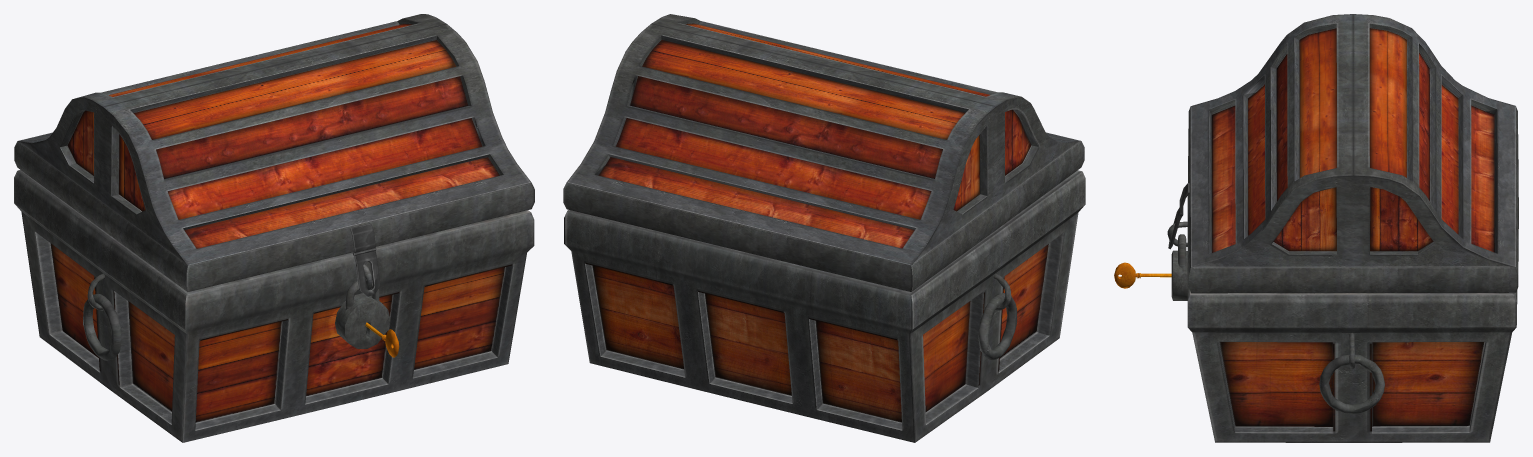
The model's file is Chest gold closed.FBX.
3 renders of one model, left to right at view 1: azimuth 30°, elevation 25°; view 2: azimuth 150°, elevation 25°; view 3: azimuth 270°, elevation 25°, orthographic. The views are drawn at different scales.
Parts seen in each view (by area): view 1: chest gold closed; view 2: chest gold closed; view 3: chest gold closed.
Part boxes in pixels (<box>): chest gold closed: <box>14,14,534,442</box>; chest gold closed: <box>563,14,1085,442</box>; chest gold closed: <box>1114,14,1518,442</box>.
Bounding box in the file's own units: 168 × 123 × 165.
Materials: 3 (3 with a texture image).
